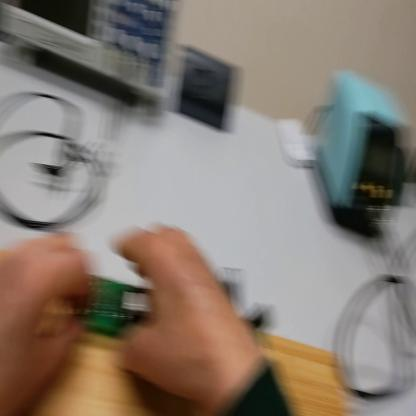hand: (115, 225, 245, 405), (2, 234, 91, 415)
high voltage board: (73, 271, 273, 339)
oscilloscope: (2, 2, 180, 113)
welder station: (321, 69, 410, 239)
working area: (3, 251, 352, 415)
